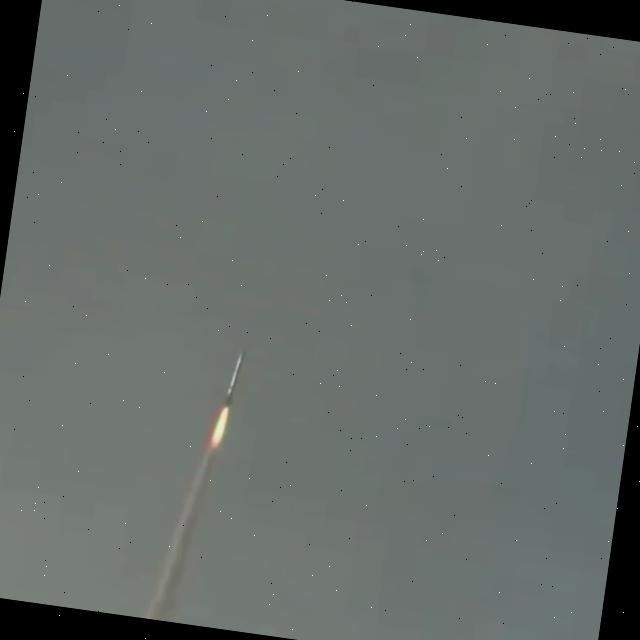rocket: (226, 354, 243, 404)
smoke_trail_with_rocket: (144, 355, 242, 622)
